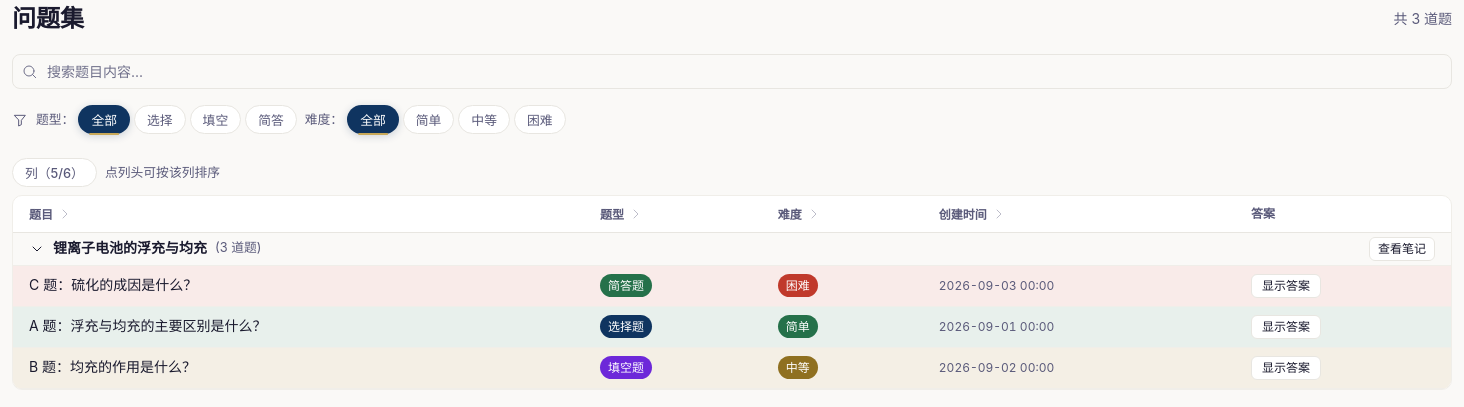
Test: 问题集：筛选 chip（批次 E5 · 核心改动 ③） › 页头计数在筛选生效时给出"筛选后 N 道"
Check: the text "C 题：硫化的成因是什么？" is shown, box [29,276,197,293]
Check: the text "共 3 道题" is shown, box [1394,8,1452,30]
Click the button "选择" at (160, 120), box [134,105,186,134]
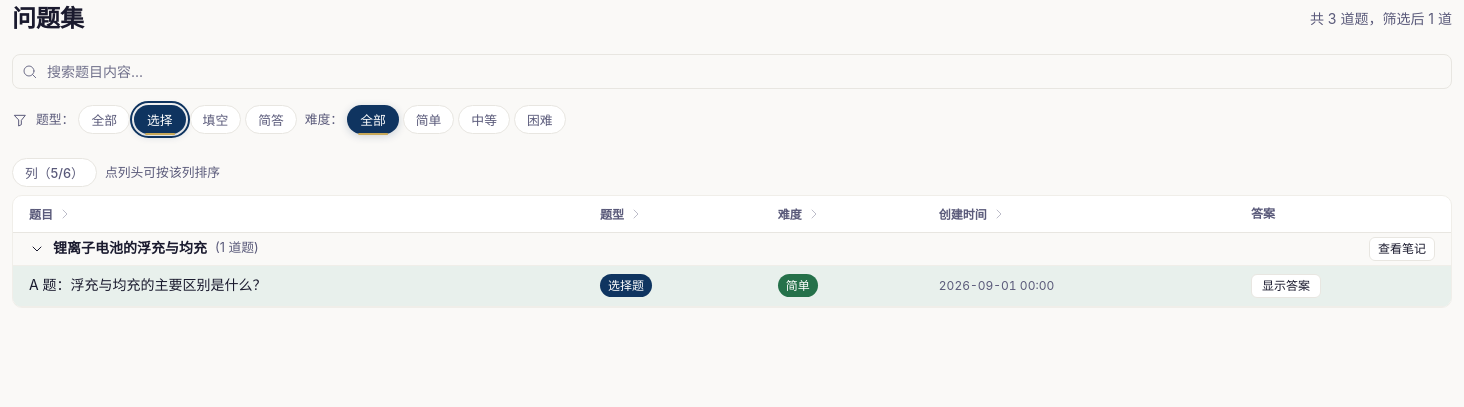
Check: the text "共 3 道题，筛选后 1 道" is shown, box [1310,8,1452,30]
